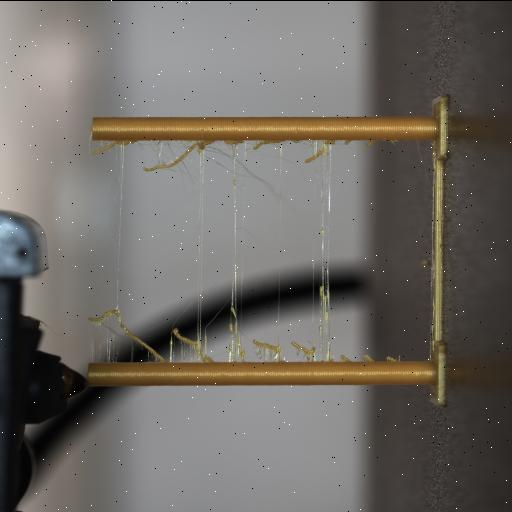stringing: (84, 306, 120, 362), (141, 140, 203, 170), (200, 286, 234, 340), (228, 314, 254, 360), (390, 384, 434, 404), (251, 338, 281, 360), (304, 140, 331, 162), (91, 140, 129, 154), (290, 340, 316, 360), (416, 142, 430, 178), (204, 345, 234, 361), (234, 226, 262, 240), (197, 340, 214, 360), (252, 139, 284, 149), (418, 255, 432, 264), (339, 354, 353, 362), (224, 139, 240, 145), (363, 354, 375, 361), (201, 356, 215, 362), (366, 138, 376, 146), (386, 355, 398, 361), (389, 138, 398, 144), (233, 176, 237, 184)
